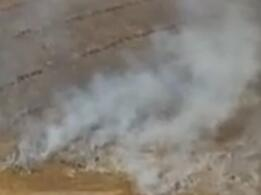yanwu: (1, 0, 261, 187)
